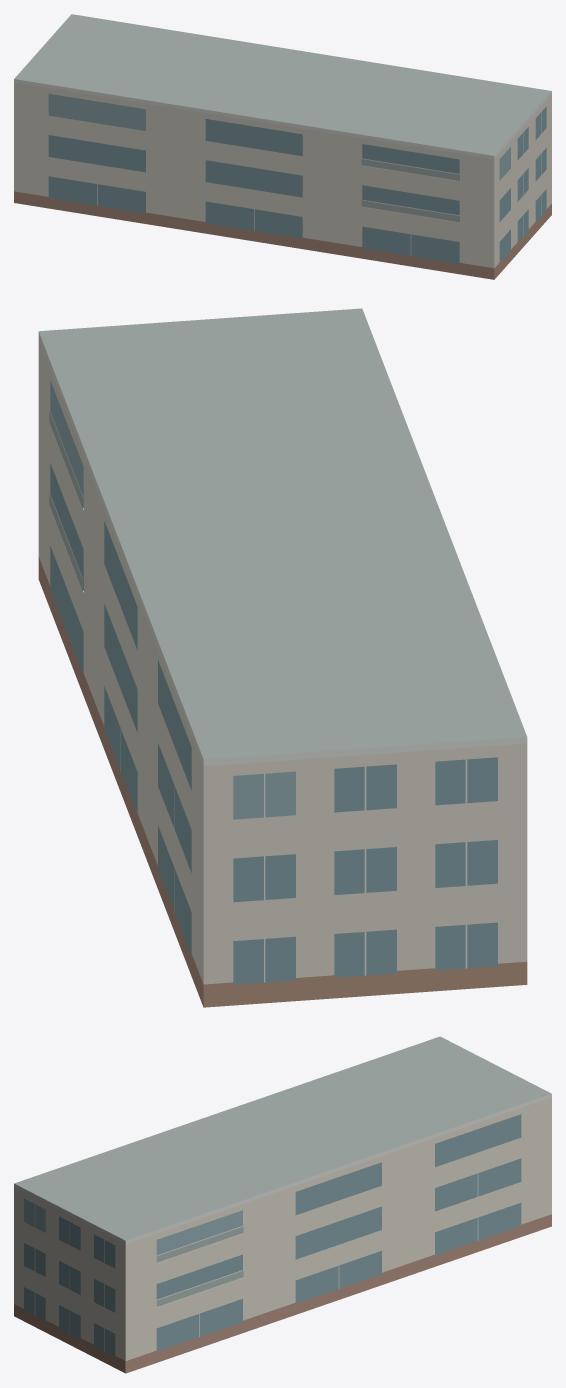
File: survey-upis-32808621.glb
3 renders of one model, top to bottom at view 1: azimuth 30°, elevation 25°; view 2: azimuth 150°, elevation 25°; view 3: azimuth 270°, elevation 25°, orthographic. The views are drawn at different scales.
Visible parts, largest first — view 1: survey-upis-32808621.tmp; view 2: survey-upis-32808621.tmp; view 3: survey-upis-32808621.tmp.
Boxes of the visible parts, x1=… form: survey-upis-32808621.tmp: x1=14, y1=14, x2=551, y2=279; survey-upis-32808621.tmp: x1=38, y1=308, x2=527, y2=1007; survey-upis-32808621.tmp: x1=14, y1=1036, x2=551, y2=1373.
Bounding box in the file's own units: 30.23 × 9.15 × 33.61.
